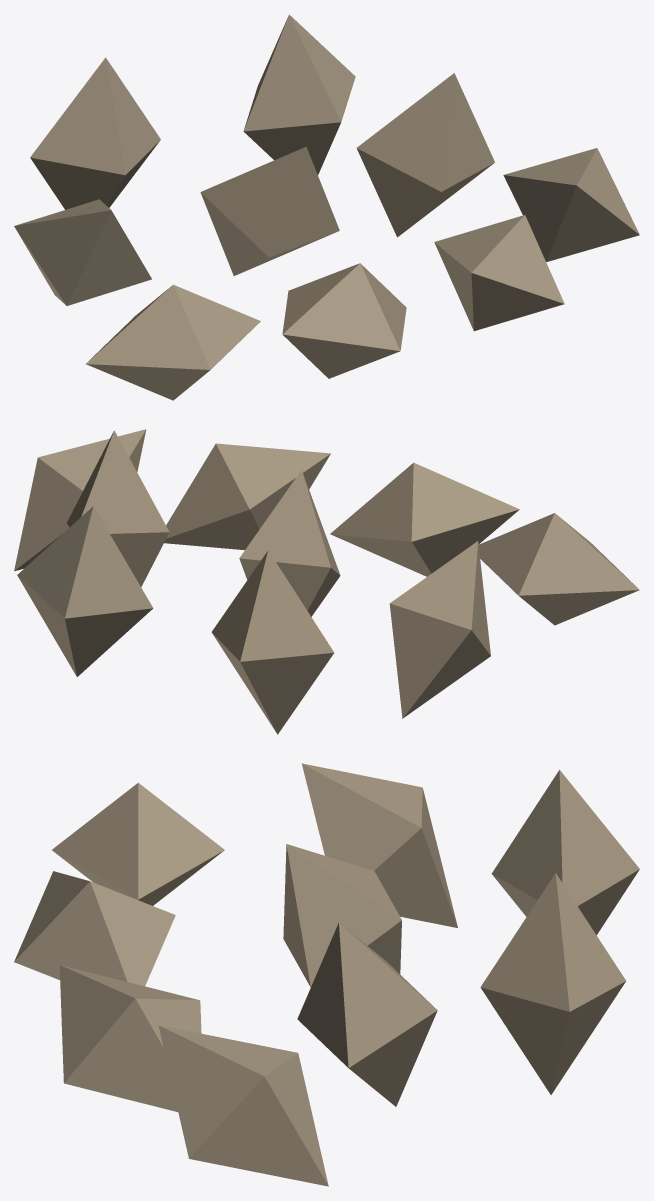
File: Heap_LOD0.fbx
The picture shows the model from 3 angles, top to bottom: view 1: azimuth 30°, elevation 25°; view 2: azimuth 150°, elevation 25°; view 3: azimuth 270°, elevation 25°; orthographic projection. The views are drawn at different scales.
Parts seen in each view (by area): view 1: Heap_LOD0; view 2: Heap_LOD0; view 3: Heap_LOD0.
Part boxes in pixels (<box>): Heap_LOD0: <box>14,14,639,400</box>; Heap_LOD0: <box>14,429,639,734</box>; Heap_LOD0: <box>14,763,639,1186</box>.
Size of the model in its own units: 1.25 by 0.3781 by 1.01.
